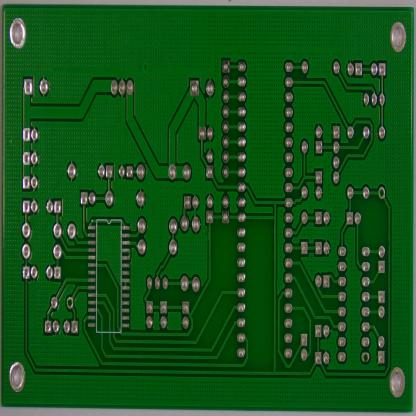missing_hole: (378, 183, 386, 201), (361, 350, 370, 365), (66, 295, 74, 310)
